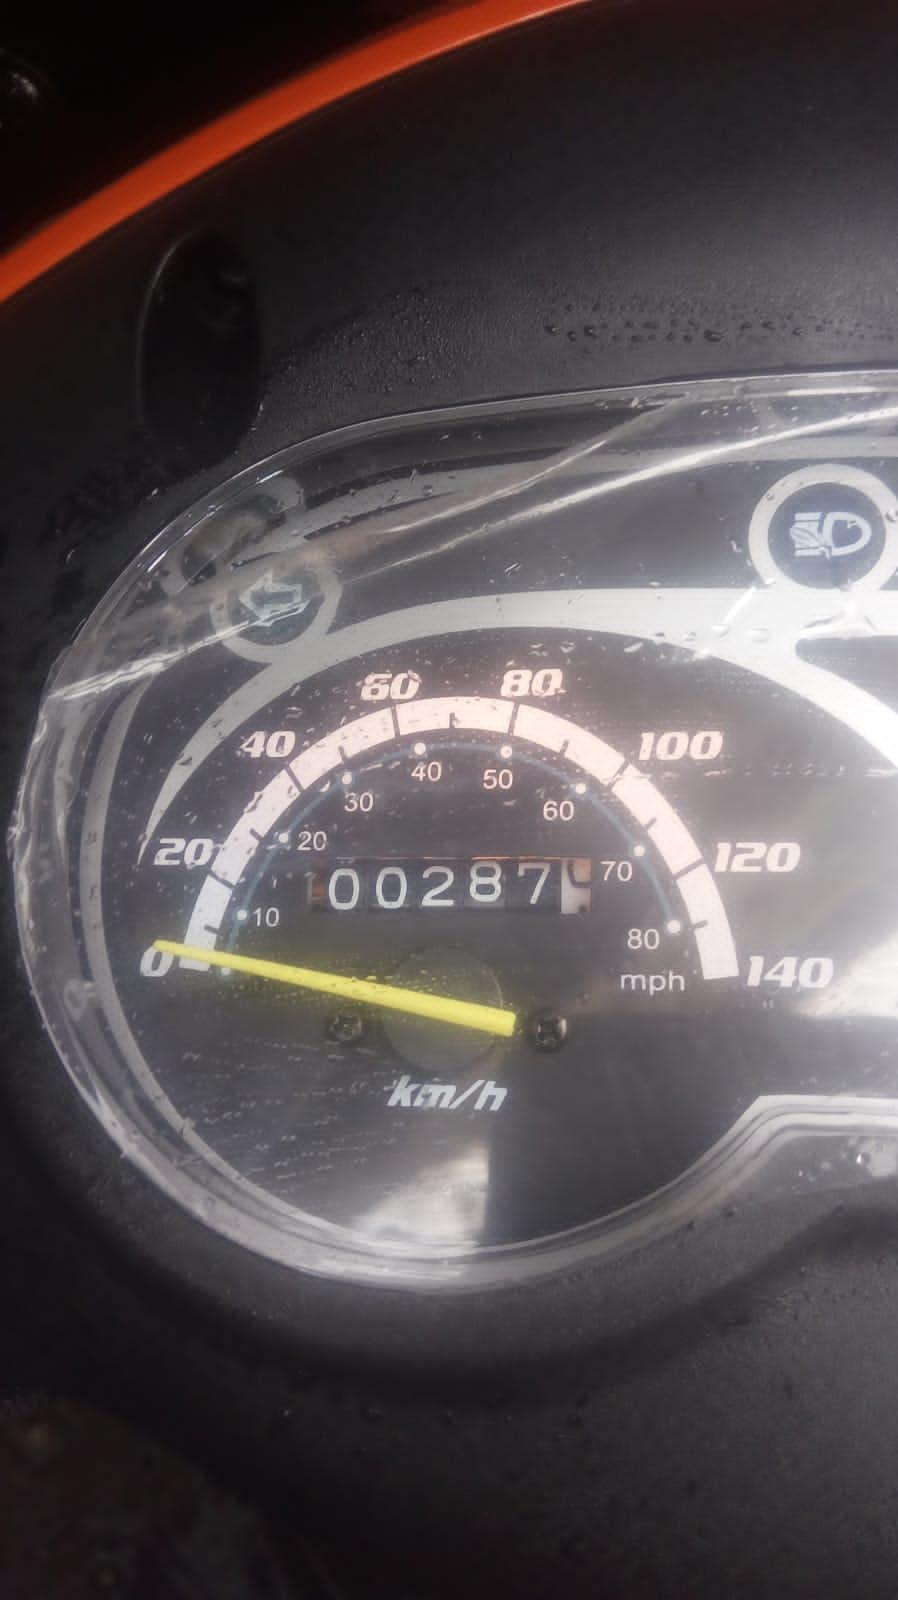0: (374, 865, 408, 910), (328, 866, 361, 911), (566, 848, 596, 889)
2: (420, 864, 456, 908)
7: (515, 860, 551, 905)
8: (469, 860, 503, 903)
odometer: (287, 846, 600, 930)
